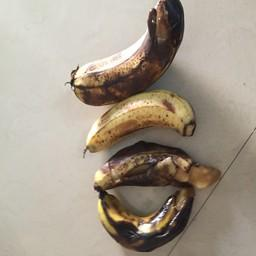Bad_banana: (66, 0, 219, 248)
